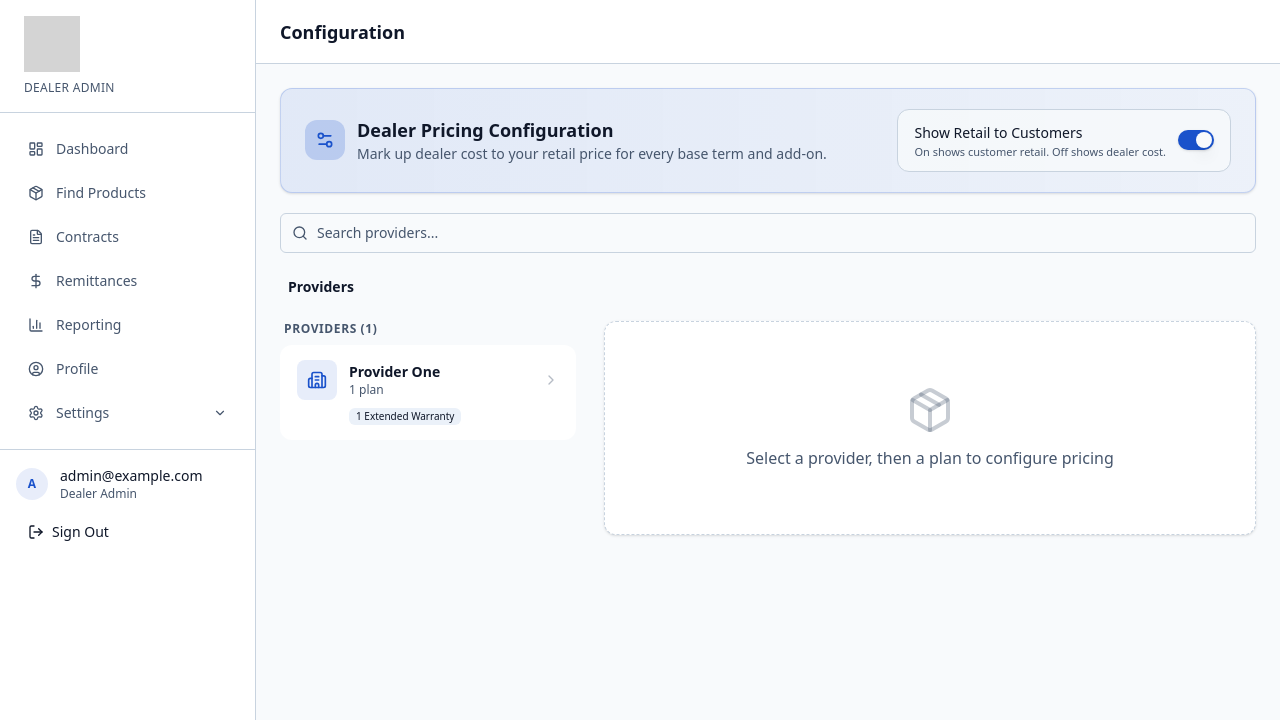
Scenario: dealer pricing recommendation display › resets selected plan retail back to generated standard retail
The image size is (1280, 720).
Click the button "Provider One 1 plan 1 Extended Warranty". click: click(317, 380)
box: [280,344,576,440]
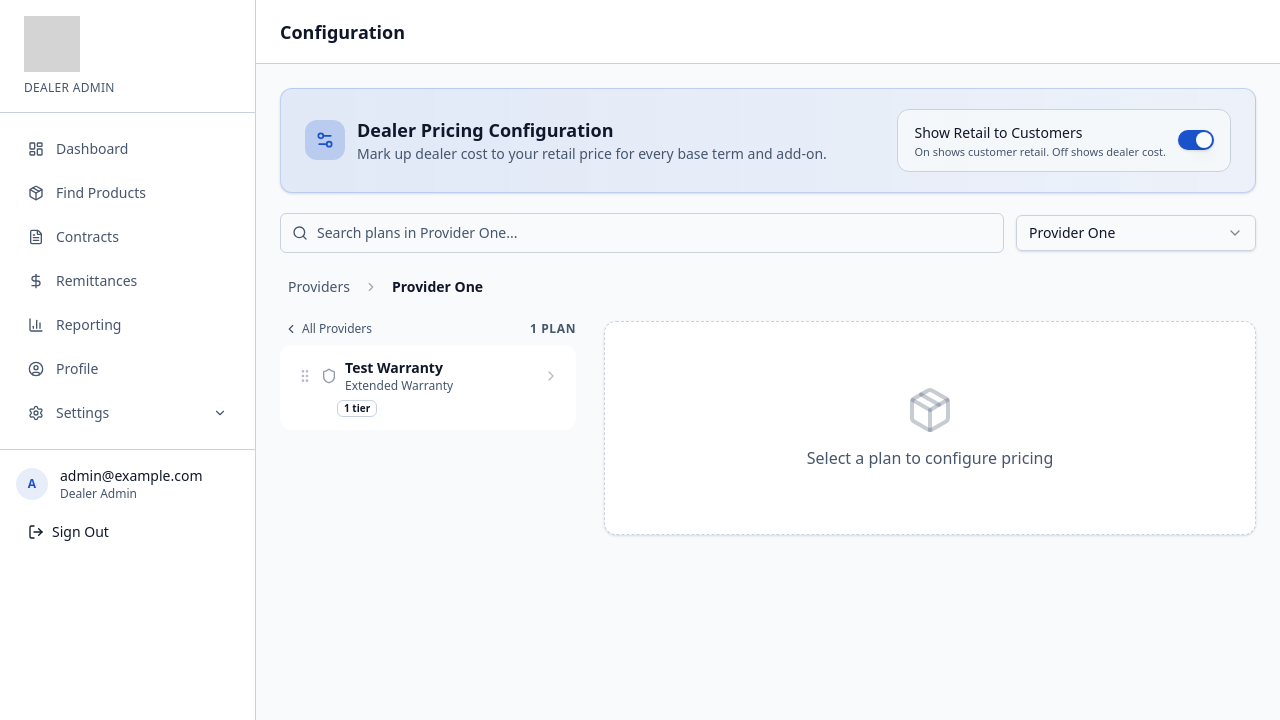
Click the button "Test Warranty Extended Warranty 1 tier". click: click(428, 387)
box: [280,344,576,430]
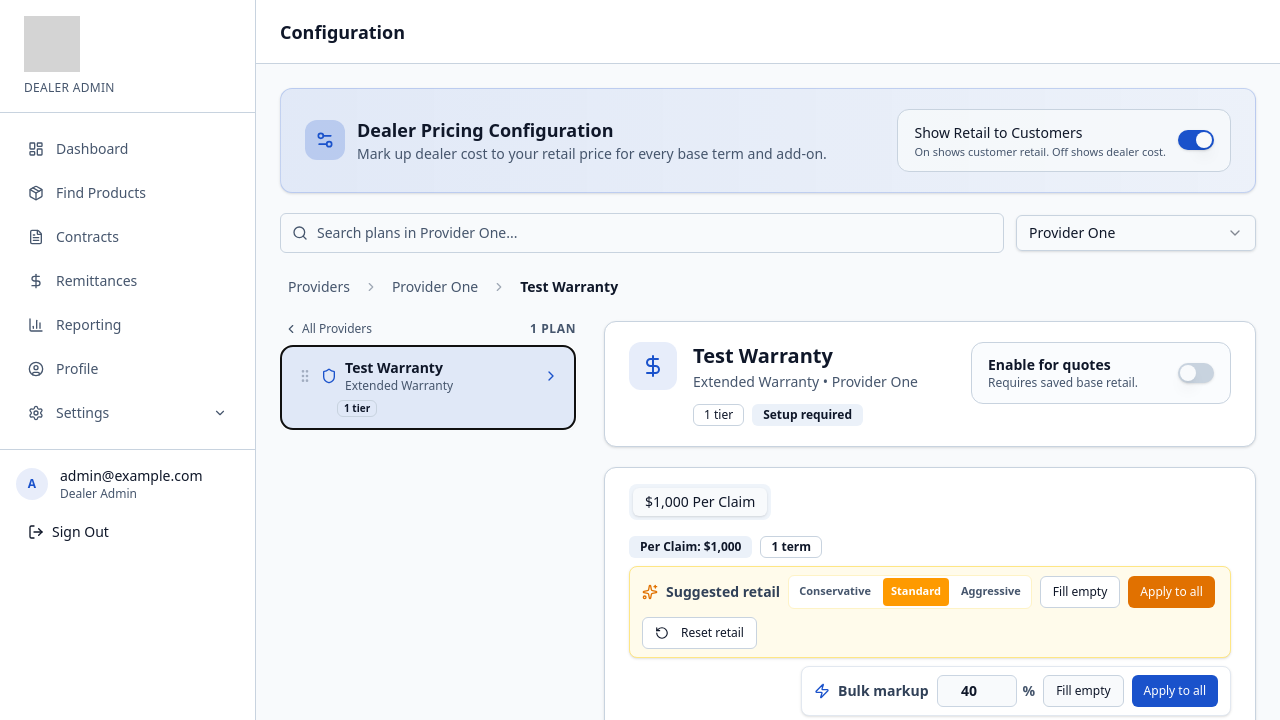
Click the button "Reset retail". click: click(700, 632)
box: [642,616,757,648]
(page scrolled)
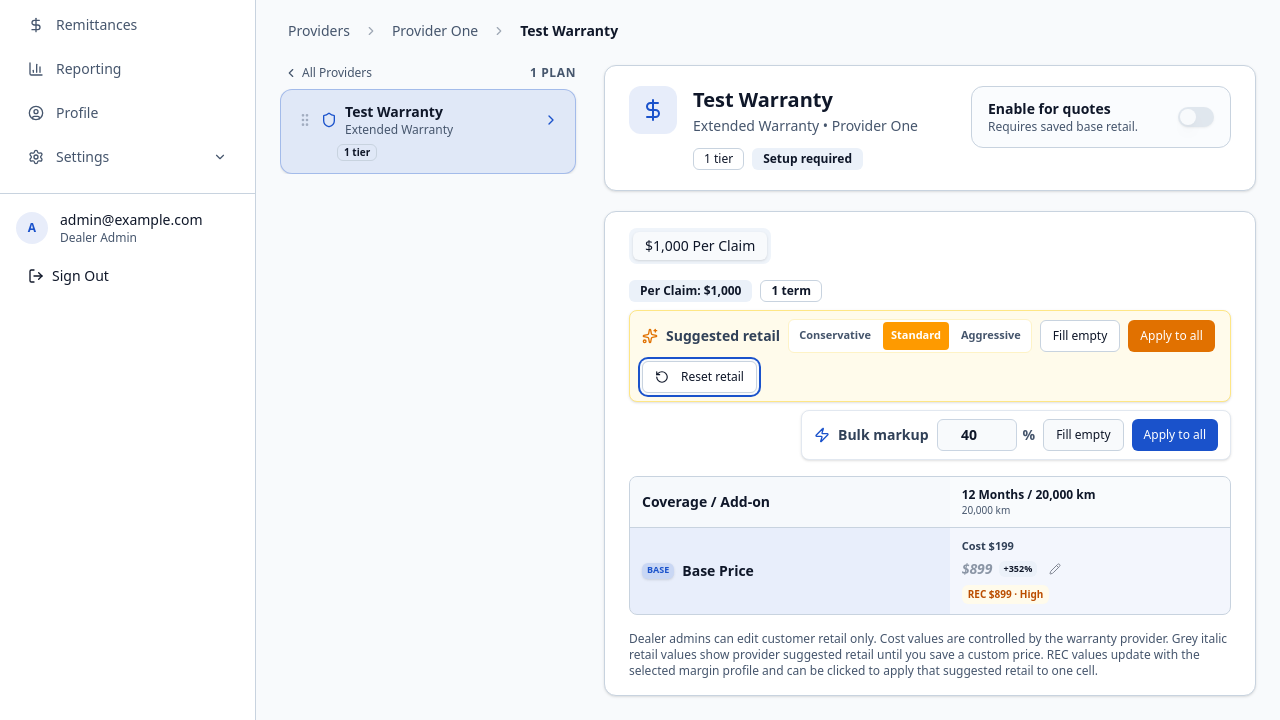
Now the text "Cost $199" is shown, box [962,538,1014,554]
Now the text "$899" is shown, box [962,560,993,580]
